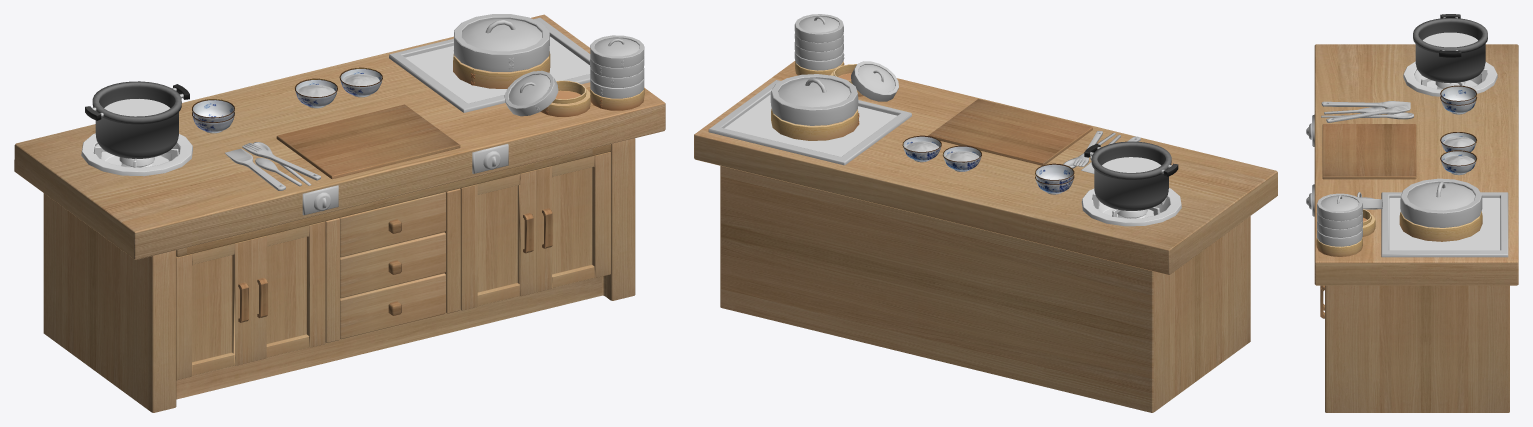
The model's file is Table 1.fbx.
3 renders of one model, left to right at view 1: azimuth 30°, elevation 25°; view 2: azimuth 150°, elevation 25°; view 3: azimuth 270°, elevation 25°, orthographic. The views are drawn at different scales.
Visible parts, largest first — view 1: table, door2, door4, door3, door1, board, pot, dumpling 4.002, cabinet1, cabinet2, cabinet3, dumpling 4.006 (+13 smaller); view 2: table, board, pot, dumpling 4.002, water, dumpling 4.006, stove2, stove, dumpling 4.010, dumpling 4.005, Bowl_red beans, Bowl_peanut (+2 smaller); view 3: table, board, pot, dumpling 4.002, dumpling 4.006, water, stove2, stove, dumpling 4.005, Bowl_peanut, water_pot, Bowl_red beans (+8 smaller).
Part boxes in pixels (bbox=[...]): table: bbox=[14, 14, 665, 412]; door2: bbox=[460, 170, 536, 310]; door4: bbox=[176, 239, 250, 380]; door3: bbox=[251, 221, 325, 361]; door1: bbox=[536, 152, 610, 292]; board: bbox=[276, 104, 460, 179]; pot: bbox=[85, 81, 189, 158]; dumpling 4.002: bbox=[453, 14, 549, 71]; cabinet1: bbox=[340, 273, 445, 339]; cabinet2: bbox=[340, 232, 445, 298]; cabinet3: bbox=[339, 192, 445, 257]; dumpling 4.006: bbox=[590, 35, 644, 110]; table: bbox=[694, 61, 1277, 412]; board: bbox=[928, 99, 1092, 165]; pot: bbox=[1084, 141, 1178, 210]; dumpling 4.002: bbox=[770, 74, 858, 125]; water: bbox=[724, 94, 897, 156]; dumpling 4.006: bbox=[794, 14, 844, 75]; stove2: bbox=[708, 80, 911, 165]; stove: bbox=[1081, 188, 1181, 226]; dumpling 4.010: bbox=[851, 61, 898, 101]; dumpling 4.005: bbox=[771, 108, 859, 140]; Bowl_red beans: bbox=[942, 145, 981, 171]; Bowl_peanut: bbox=[902, 135, 941, 162]; table: bbox=[1314, 44, 1518, 412]; board: bbox=[1322, 124, 1416, 179]; pot: bbox=[1413, 14, 1487, 83]; dumpling 4.002: bbox=[1400, 178, 1482, 227]; dumpling 4.006: bbox=[1316, 193, 1362, 256]; water: bbox=[1389, 198, 1500, 250]; stove2: bbox=[1381, 192, 1508, 257]; stove: bbox=[1403, 61, 1497, 96]; dumpling 4.005: bbox=[1399, 211, 1482, 241]; Bowl_peanut: bbox=[1440, 150, 1476, 175]; water_pot: bbox=[1423, 32, 1477, 47]; Bowl_red beans: bbox=[1440, 132, 1476, 152].
Size of the model in its own units: 234 by 106 by 96.27.
